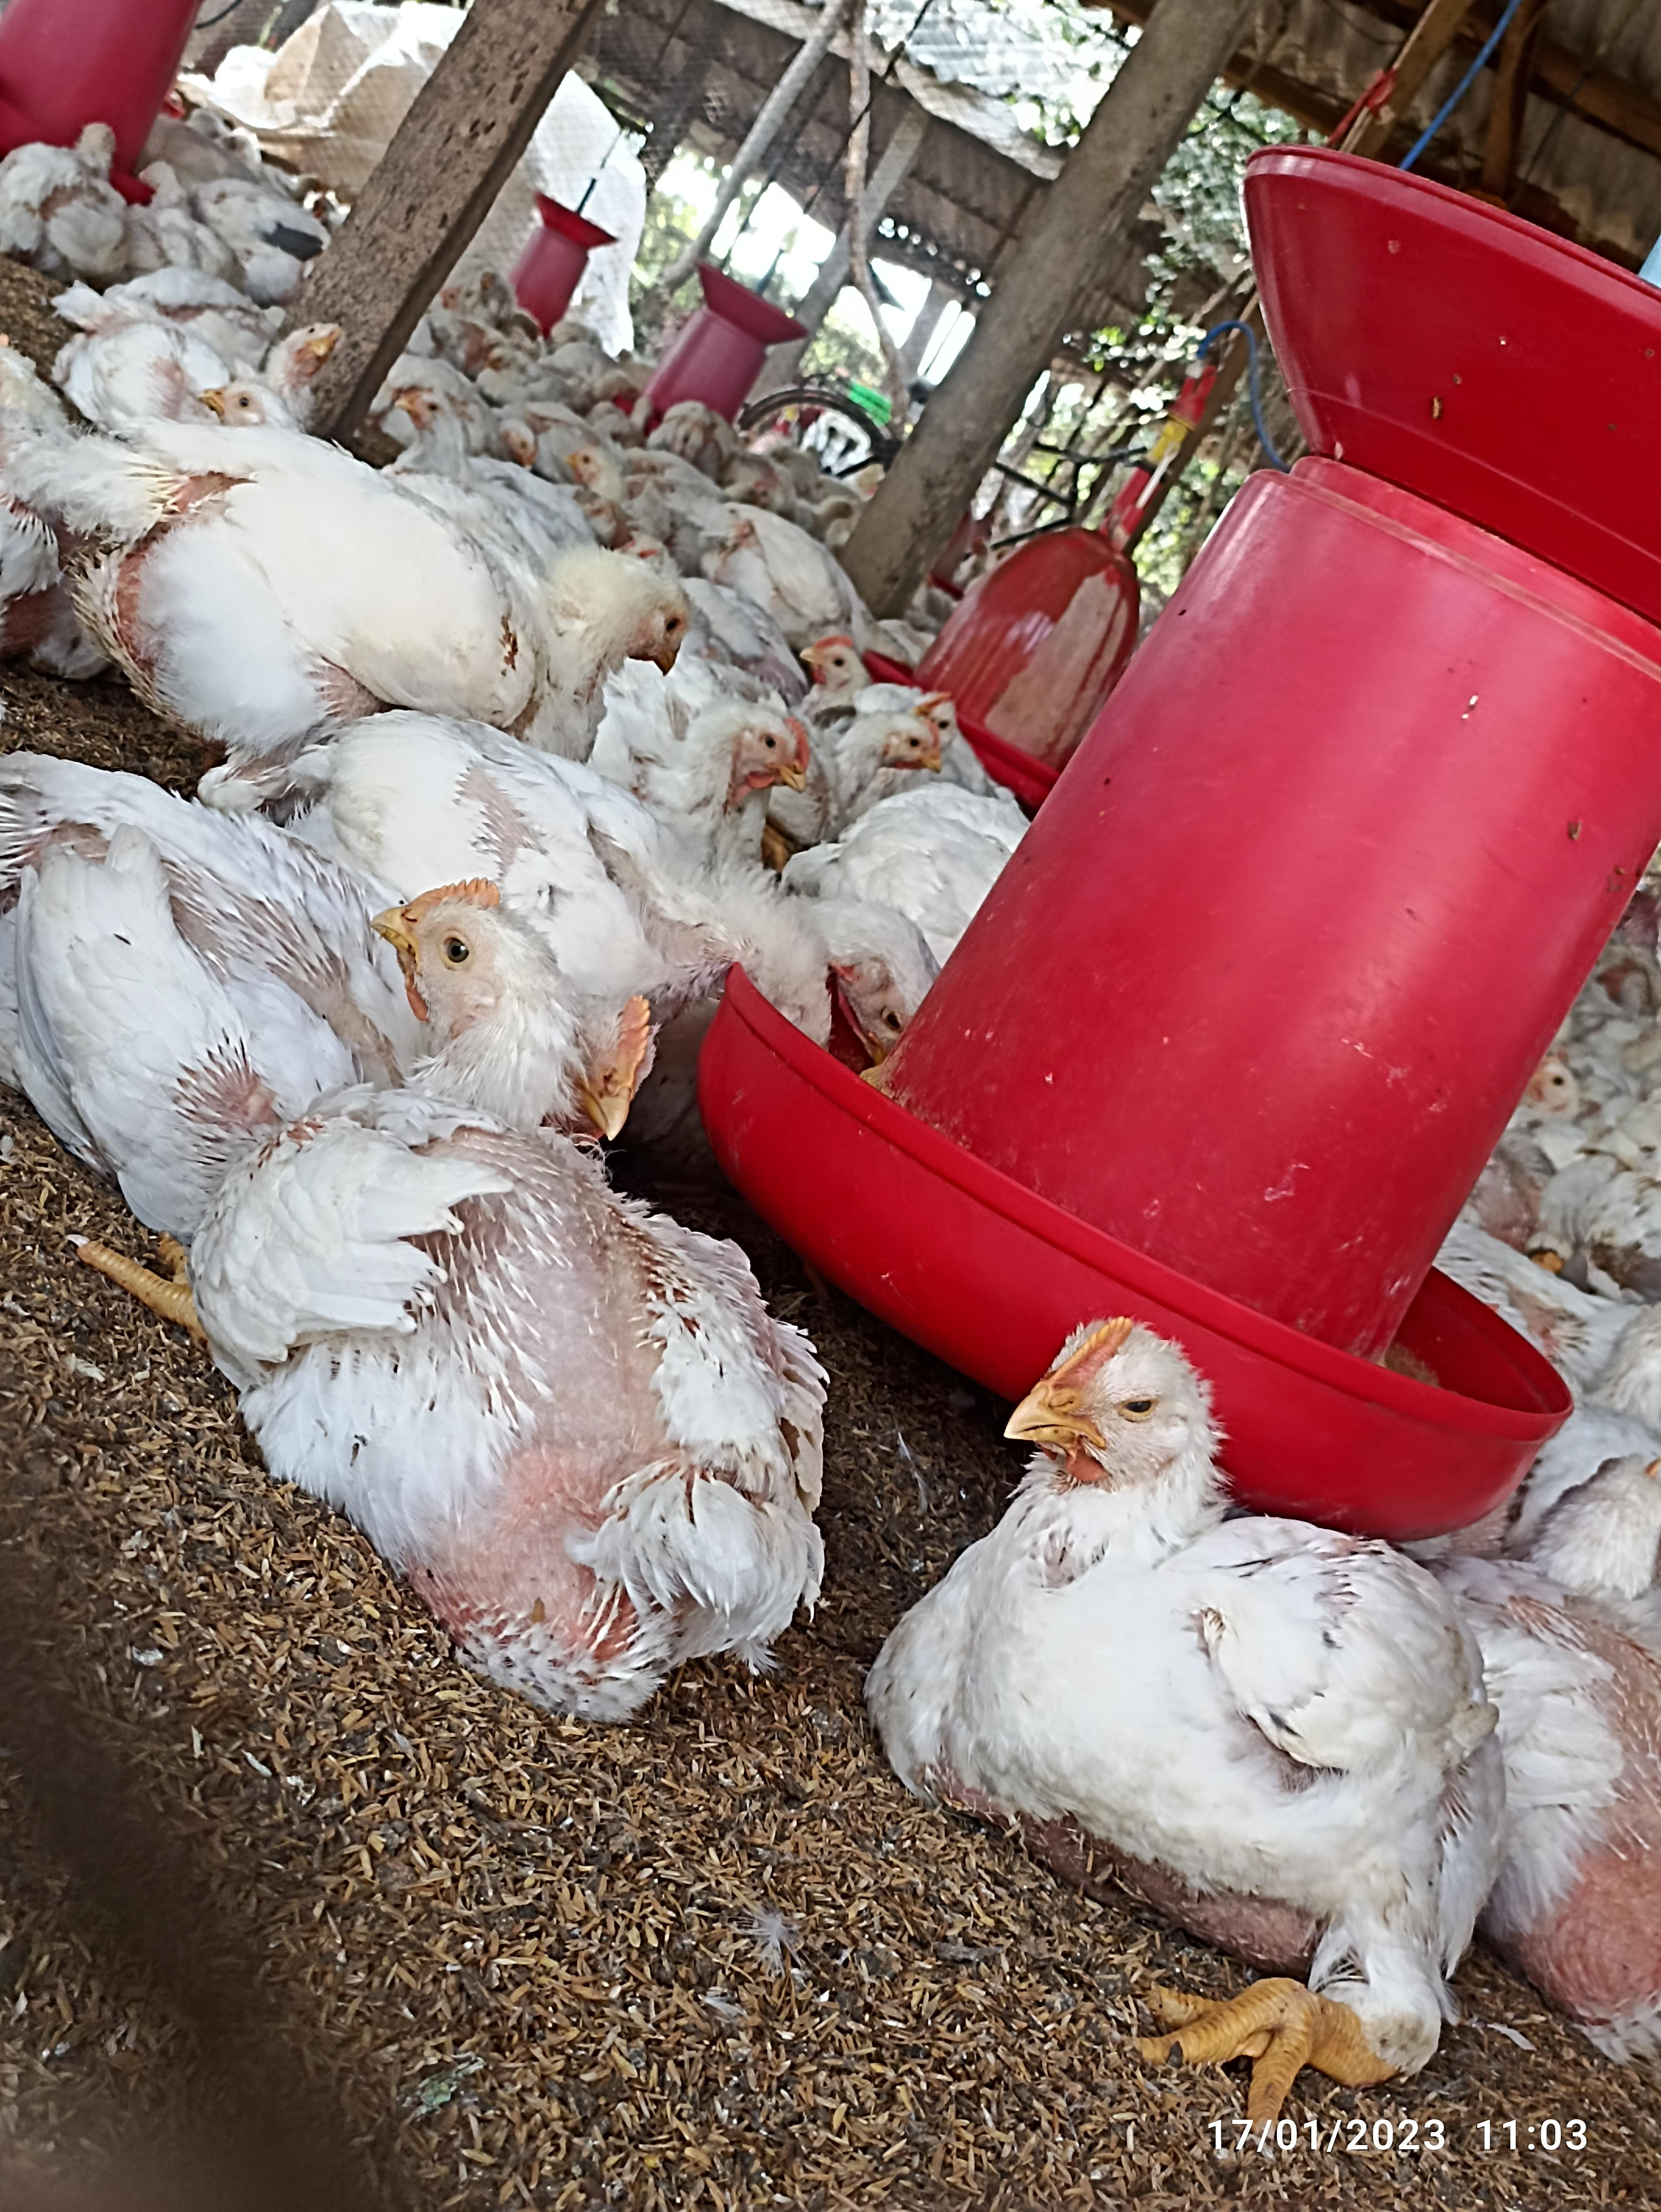Pollos: (251, 893, 778, 1673), (919, 1319, 1497, 1976), (110, 438, 689, 712), (323, 705, 801, 890)
